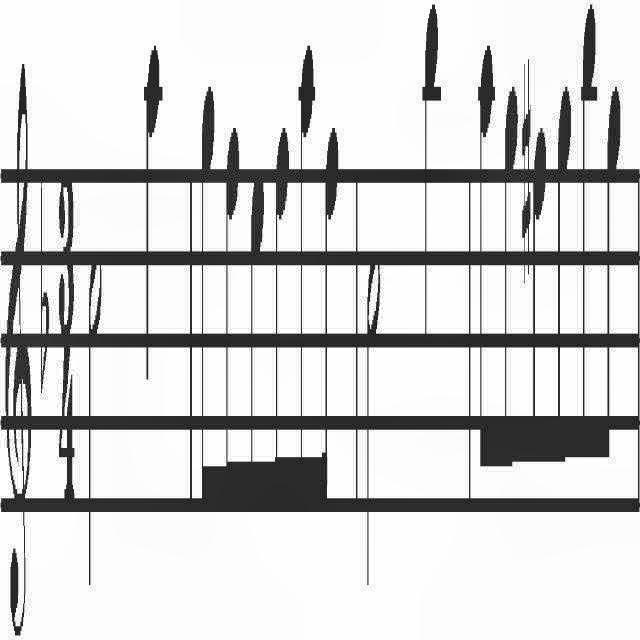Bass-clef: (4, 48, 32, 638)
Bemol: (38, 175, 50, 398)
Diez: (520, 59, 532, 288)
Eighth-note: (296, 43, 314, 527), (580, 0, 598, 468), (601, 80, 621, 476), (554, 75, 572, 487), (478, 34, 494, 482), (321, 124, 339, 520), (501, 86, 519, 478), (200, 70, 216, 510), (273, 115, 289, 521), (224, 122, 240, 522), (248, 163, 264, 524), (532, 118, 546, 490)
Half-note: (86, 238, 102, 602), (366, 239, 382, 597)
Quarter-note: (145, 21, 161, 386), (423, 1, 439, 340)
